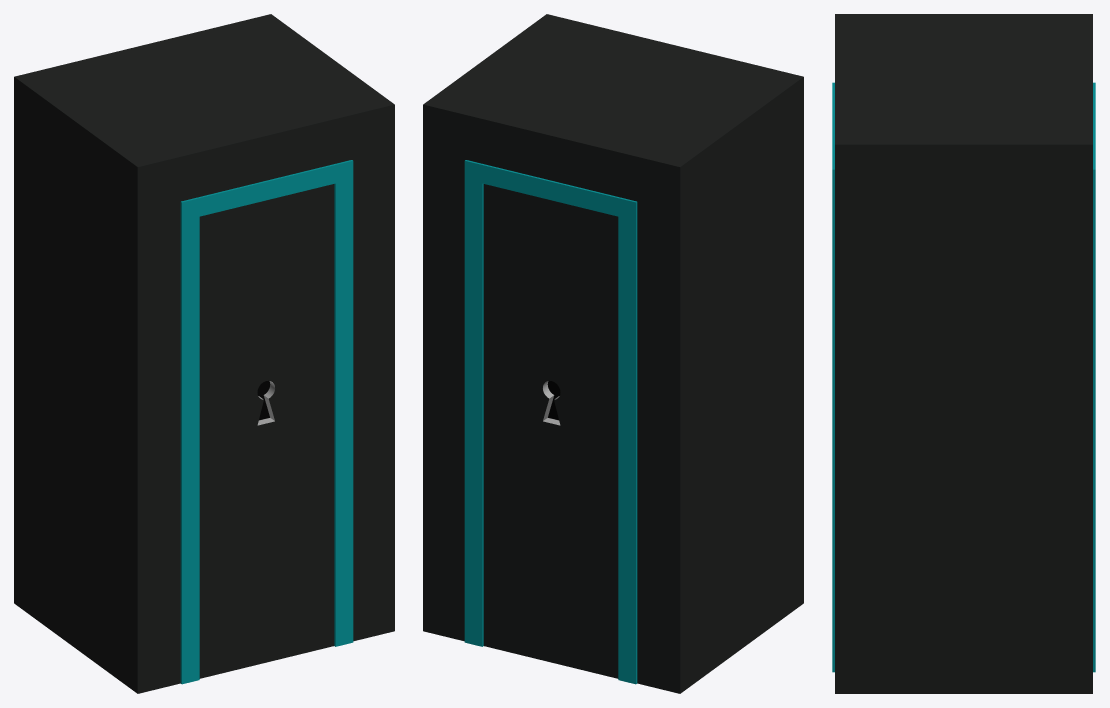
Rendered from Dungeon Locked Door.fbx.
3 views of the same model, side by side, from view 1: azimuth 30°, elevation 25°; view 2: azimuth 150°, elevation 25°; view 3: azimuth 270°, elevation 25° (orthographic). The views are drawn at different scales.
Visible parts, largest first — view 1: 3DGeom~2, 3DGeom~4; view 2: 3DGeom~2, 3DGeom~4; view 3: 3DGeom~2, 3DGeom~4.
Part boxes in pixels (bbox=[...]): 3DGeom~2: bbox=[14, 14, 394, 693]; 3DGeom~4: bbox=[180, 160, 353, 684]; 3DGeom~2: bbox=[423, 14, 803, 693]; 3DGeom~4: bbox=[464, 160, 637, 684]; 3DGeom~2: bbox=[835, 14, 1092, 693]; 3DGeom~4: bbox=[832, 82, 1095, 672].
Size of the model in its own units: 1.2 by 1.02 by 2.35.
